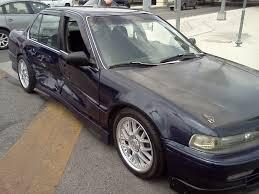doorouter-dent: (68, 13, 99, 92), (25, 34, 61, 84)
